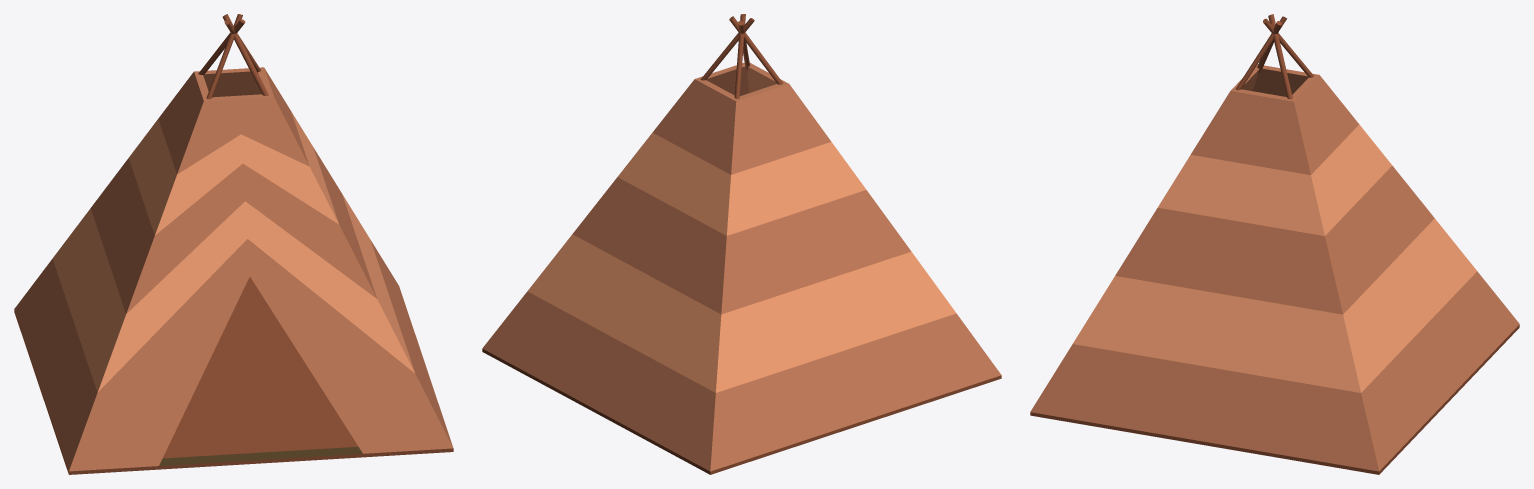
Rendered from sator.fbx.
The picture shows the model from 3 angles, left to right: view 1: azimuth 30°, elevation 25°; view 2: azimuth 150°, elevation 25°; view 3: azimuth 270°, elevation 25°; orthographic projection. The views are drawn at different scales.
Parts seen in each view (by area): view 1: sator; view 2: sator; view 3: sator.
Part boxes in pixels (x1,y1,x2,y2): sator: (14,14,453,474); sator: (482,14,1001,474); sator: (1030,14,1519,474).
Size of the model in its own units: 260 by 207 by 260.
